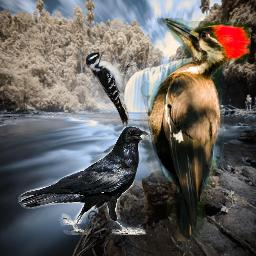Crow: (18, 126, 154, 235)
Woodpecker: (137, 18, 251, 241), (85, 50, 134, 127)
